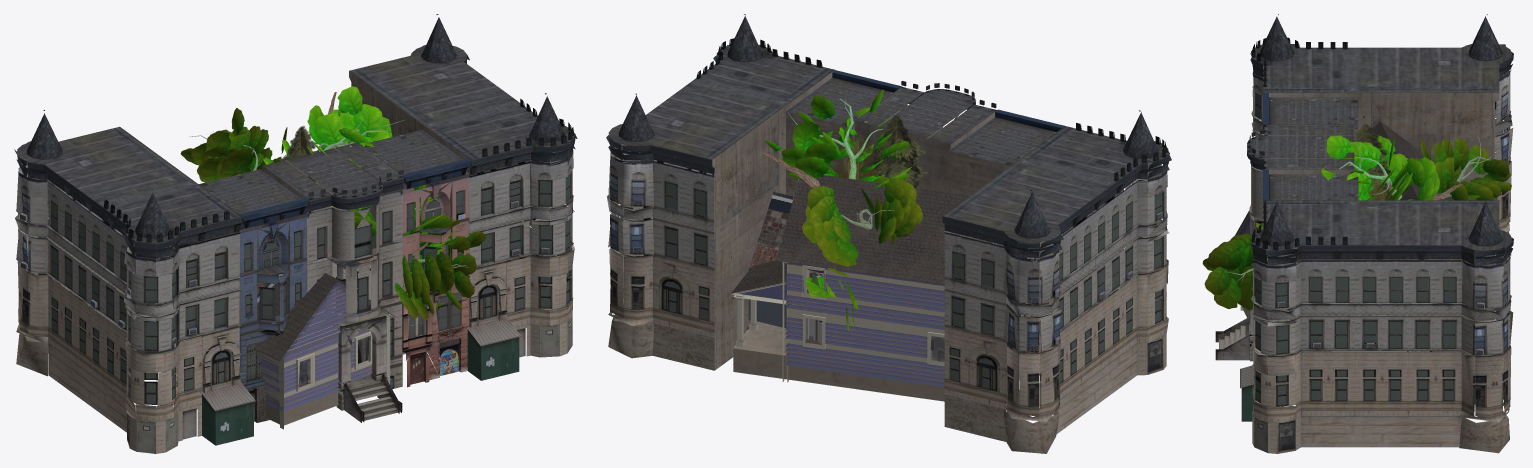
Rendered from scenery-town.glb.
The picture shows the model from 3 angles, left to right: view 1: azimuth 30°, elevation 25°; view 2: azimuth 150°, elevation 25°; view 3: azimuth 270°, elevation 25°; orthographic projection. The views are drawn at different scales.
Visible parts, largest first — view 1: nyc_homes_0, nyc_homes_2, nyc_homes_4, oak_1, nyc_homes_3, suburban_house_5, nyc_homes_1, suburban_house_3, suburban_house_4, suburbian_house_0, oak_0, suburban_house_1 (+1 smaller); view 2: nyc_homes_0, nyc_homes_1, suburban_house_3, suburban_house_5, oak_1, suburban_house_4, nyc_homes_2, nyc_homes_4, suburbian_house_0, forest_trees_0_0, suburban_house_1, oak_0 (+1 smaller); view 3: nyc_homes_0, oak_1, nyc_homes_1, nyc_homes_4, nyc_homes_2, suburban_house_3, oak_0, forest_trees_0_0, nyc_homes_3, forest_trees_1_0.
Boxes of the visible parts, x1,y1,x2,y2 form: nyc_homes_0: [14, 14, 577, 453]; nyc_homes_2: [199, 130, 471, 422]; nyc_homes_4: [262, 142, 404, 422]; oak_1: [180, 86, 485, 319]; nyc_homes_3: [201, 318, 521, 445]; suburban_house_5: [141, 242, 378, 411]; nyc_homes_1: [122, 71, 471, 386]; suburban_house_3: [137, 147, 395, 429]; suburban_house_4: [141, 242, 371, 425]; suburbian_house_0: [166, 232, 427, 390]; oak_0: [172, 92, 474, 409]; suburban_house_1: [154, 251, 372, 391]; nyc_homes_0: [606, 14, 1171, 453]; nyc_homes_1: [712, 70, 1062, 370]; suburban_house_3: [731, 175, 993, 382]; suburban_house_5: [785, 262, 944, 386]; oak_1: [764, 89, 923, 330]; suburban_house_4: [733, 264, 944, 401]; nyc_homes_2: [786, 70, 1064, 331]; nyc_homes_4: [855, 81, 996, 144]; suburbian_house_0: [747, 192, 1039, 361]; forest_trees_0_0: [866, 114, 928, 188]; suburban_house_1: [736, 265, 944, 366]; oak_0: [764, 92, 1053, 375]; nyc_homes_0: [1250, 14, 1513, 453]; oak_1: [1202, 129, 1511, 316]; nyc_homes_1: [1263, 92, 1499, 404]; nyc_homes_4: [1215, 124, 1354, 361]; nyc_homes_2: [1252, 93, 1358, 289]; suburban_house_3: [1235, 121, 1452, 310]; oak_0: [1228, 136, 1497, 283]; forest_trees_0_0: [1352, 124, 1391, 190]; nyc_homes_3: [1240, 365, 1253, 421]; forest_trees_1_0: [1368, 173, 1393, 200].
Size of the model in its own units: 21.72 by 11.86 by 13.98.
21 materials, 20 textured.
